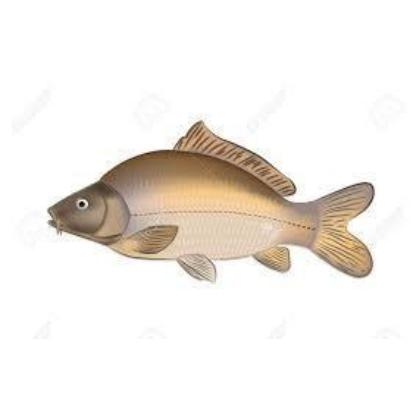ikan-mas: (46, 118, 380, 282)
